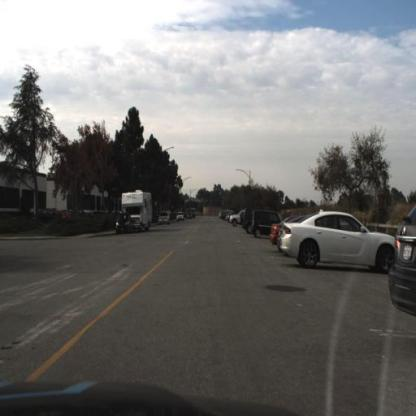car: (284, 212, 396, 265), (389, 202, 416, 331), (253, 211, 286, 242), (232, 208, 257, 230), (114, 213, 133, 236), (159, 211, 173, 227), (176, 211, 185, 223)
truck: (121, 189, 157, 231)
